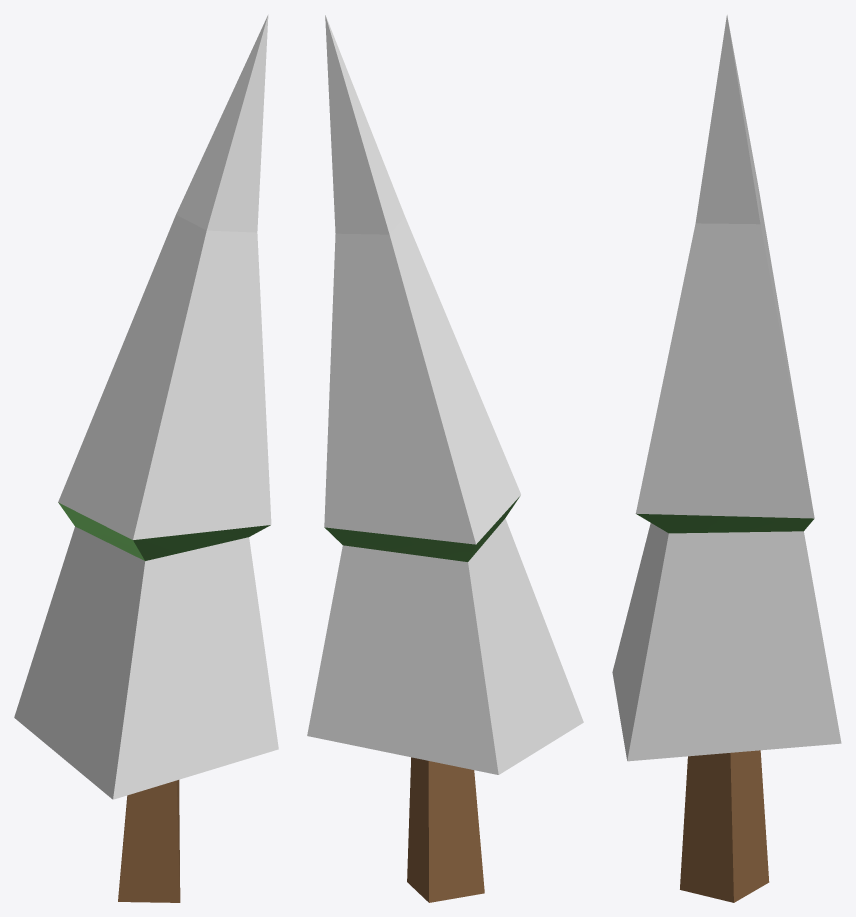
Rendered from Fir_Tree_s_Snow_09_LOD.fbx.
3 renders of one model, left to right at view 1: azimuth 30°, elevation 25°; view 2: azimuth 150°, elevation 25°; view 3: azimuth 270°, elevation 25°, orthographic. The views are drawn at different scales.
Parts seen in each view (by area): view 1: Fir_Tree_s_Snow_09_LOD0; view 2: Fir_Tree_s_Snow_09_LOD0; view 3: Fir_Tree_s_Snow_09_LOD0.
Boxes of the visible parts, bbox=[...] form: Fir_Tree_s_Snow_09_LOD0: bbox=[14, 15, 278, 902]; Fir_Tree_s_Snow_09_LOD0: bbox=[307, 15, 583, 902]; Fir_Tree_s_Snow_09_LOD0: bbox=[612, 15, 841, 902].
Size of what is drawn, in the model's own units: 39.87 by 151 by 33.46.
